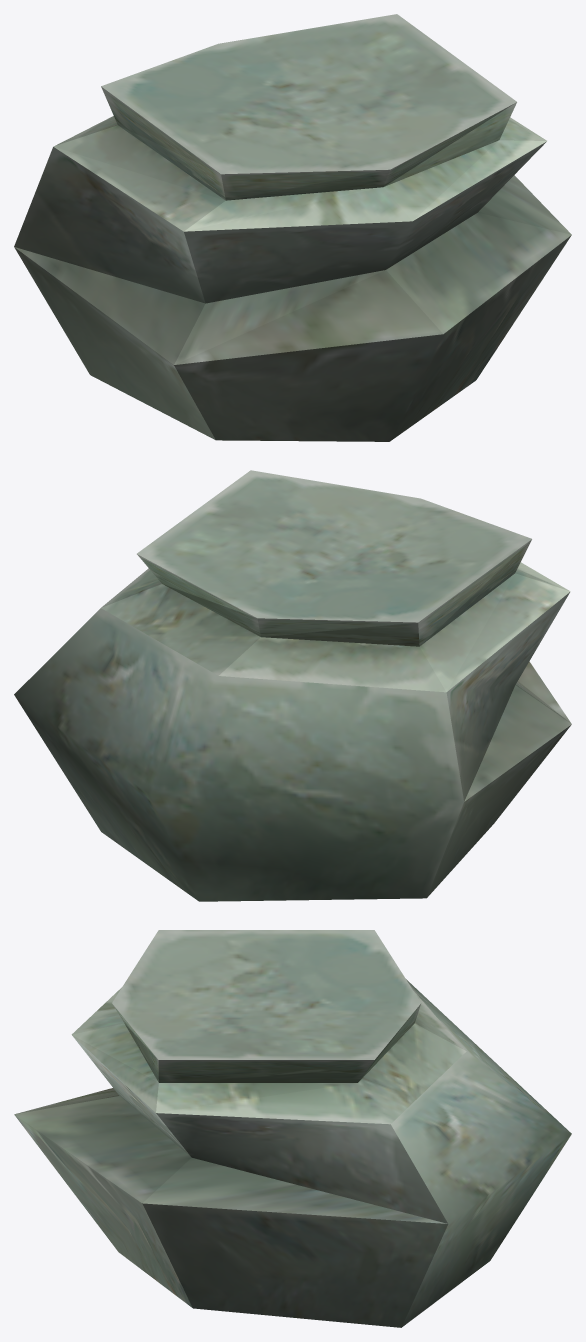
File: FB_ZhuLinXiaoXi_Shitou02.FBX
3 views of the same model, one above another, from view 1: azimuth 30°, elevation 25°; view 2: azimuth 150°, elevation 25°; view 3: azimuth 270°, elevation 25° (orthographic). The views are drawn at different scales.
Visible parts, largest first — view 1: Box51; view 2: Box51; view 3: Box51.
Part boxes in pixels (left/top/right/bottom): Box51: left=14, top=14, right=571, bottom=441; Box51: left=14, top=470, right=571, bottom=901; Box51: left=14, top=930, right=571, bottom=1327.
Size of the model in its own units: 18.73 by 11.37 by 22.28.
